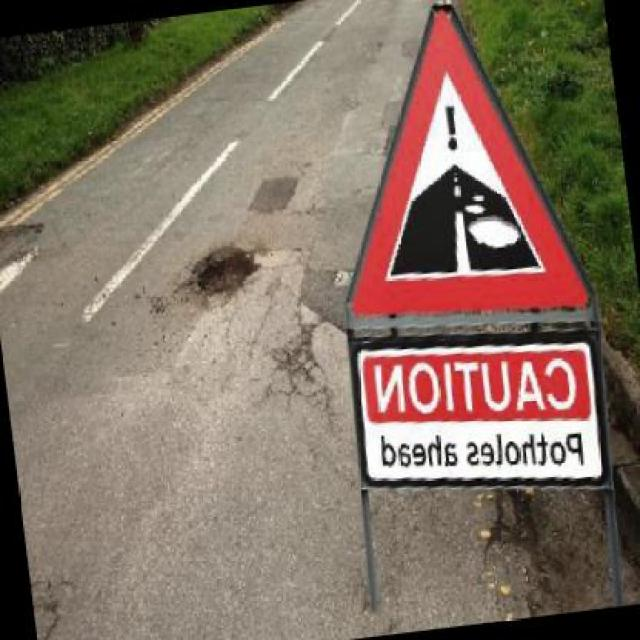pothole1: (178, 238, 264, 308)
